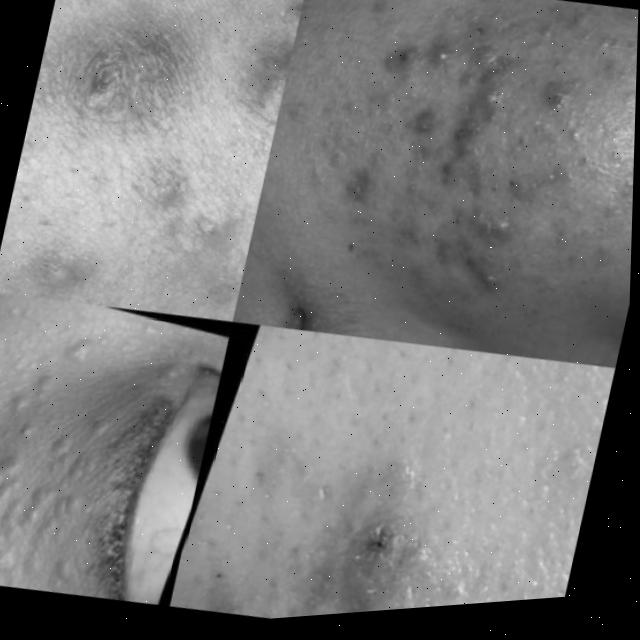Acne: (351, 0, 639, 296), (20, 0, 222, 207), (240, 451, 478, 621), (0, 375, 98, 583)
